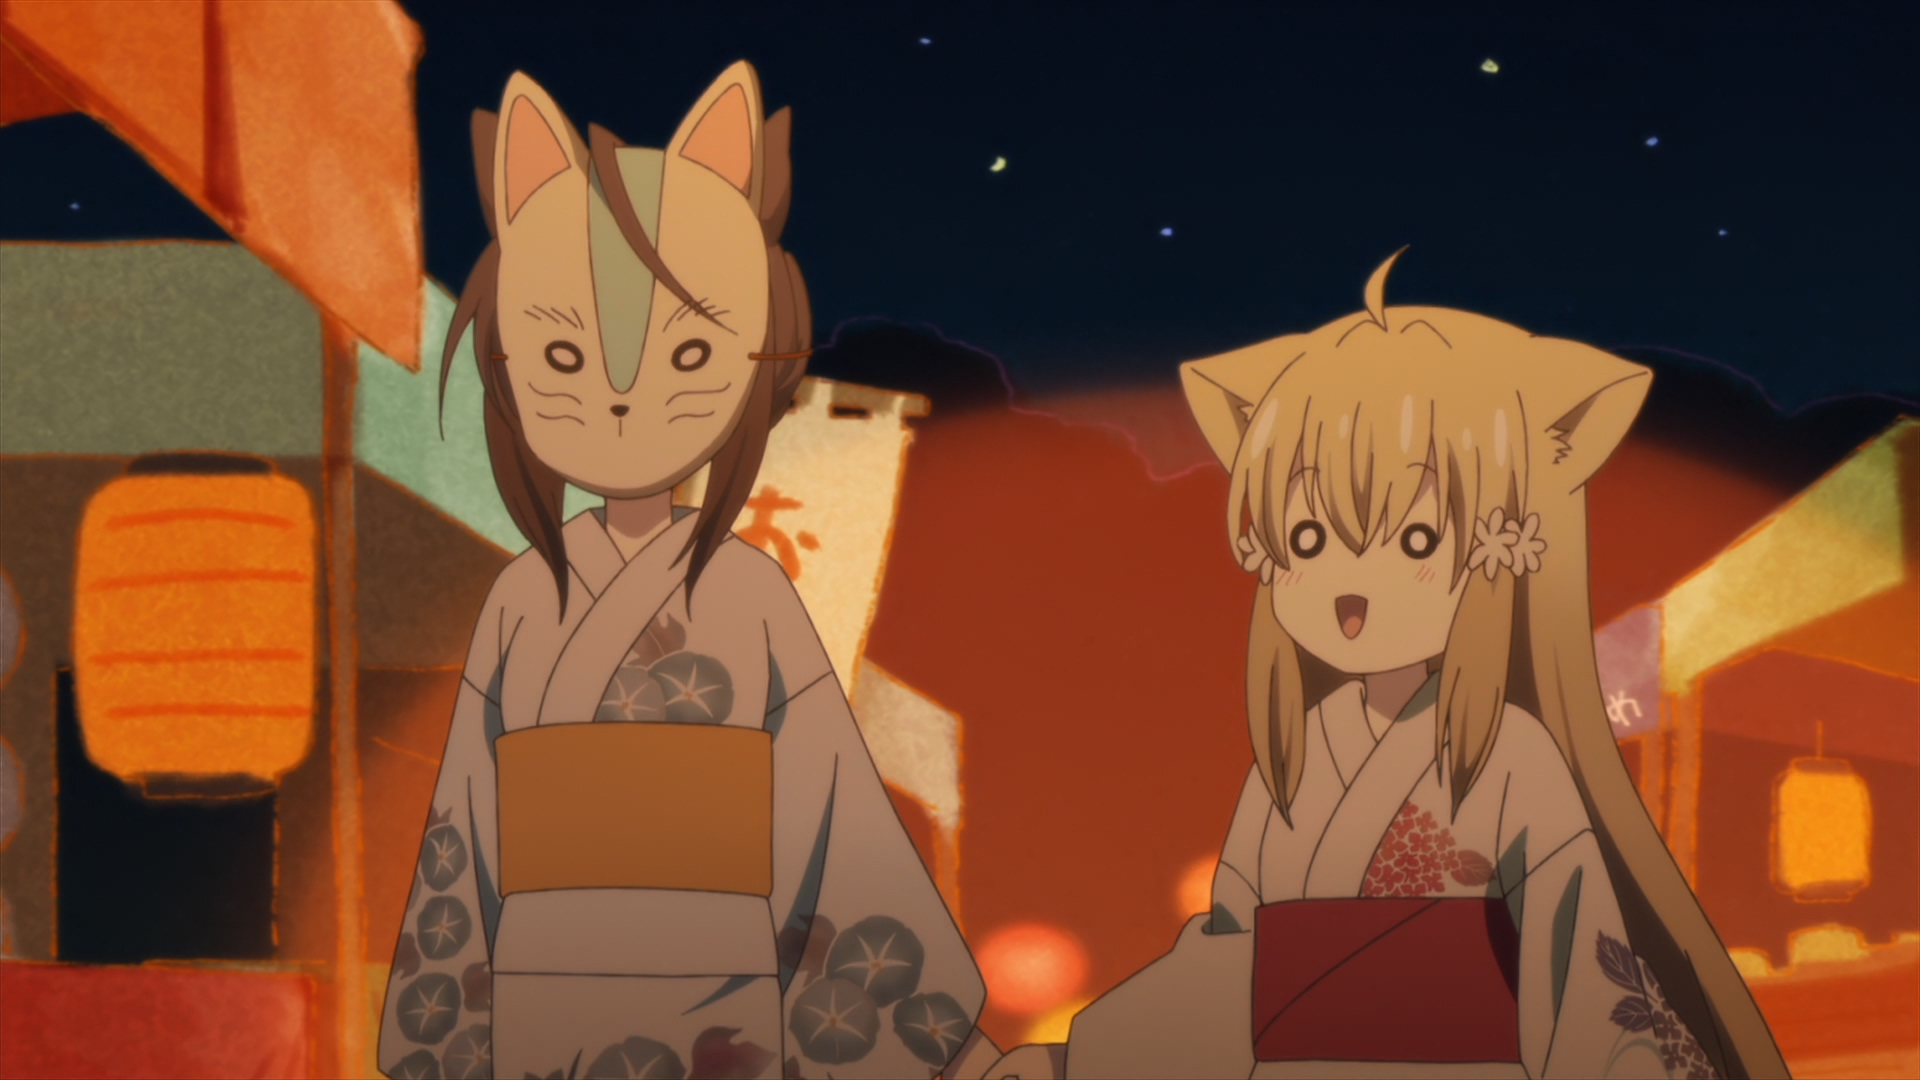其他: (380, 61, 994, 1080)
柚: (986, 247, 1788, 1080)
